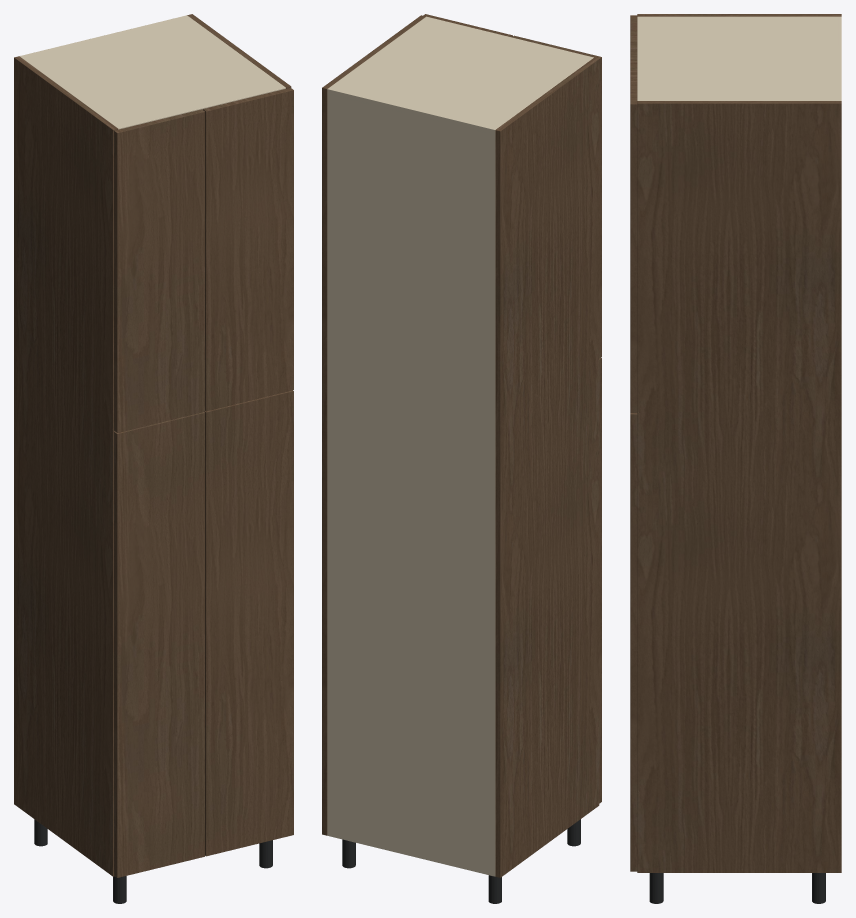
File: oppein-ply-mso-pc2496.glb
3 views of the same model, side by side, from view 1: azimuth 30°, elevation 25°; view 2: azimuth 150°, elevation 25°; view 3: azimuth 270°, elevation 25° (orthographic). The views are drawn at different scales.
Visible parts, largest first — view 1: Cabinet side, Door, Door.001, Door.002, Door.003, Cabinet top, Cabinet side.001; view 2: Cabinet back, Cabinet side, Cabinet top, Cabinet side.001, Door, Door.002; view 3: Cabinet side.001, Cabinet top, Door.001, Door.003, Cabinet side, Adjustable foot.003.
Boxes of the visible parts, <box> form: Cabinet side: <box>14,56,118,876</box>; Door: <box>114,412,204,877</box>; Door.001: <box>204,390,293,856</box>; Door.002: <box>114,109,204,432</box>; Door.003: <box>202,87,293,411</box>; Cabinet top: <box>21,16,285,129</box>; Cabinet side.001: <box>187,14,291,88</box>; Cabinet back: <box>327,87,496,876</box>; Cabinet side: <box>495,57,599,877</box>; Cabinet top: <box>328,16,593,132</box>; Cabinet side.001: <box>322,15,425,835</box>; Door: <box>599,357,601,803</box>; Door.002: <box>512,35,601,358</box>; Cabinet side.001: <box>637,101,841,872</box>; Cabinet top: <box>637,16,837,100</box>; Door.001: <box>630,413,637,871</box>; Door.003: <box>630,60,637,412</box>; Cabinet side: <box>637,14,841,16</box>; Adjustable foot.003: <box>649,873,663,903</box>.
Size of the model in its own units: 0.6096 by 2.55 by 0.6064.
Materials: 3 (1 with a texture image).
